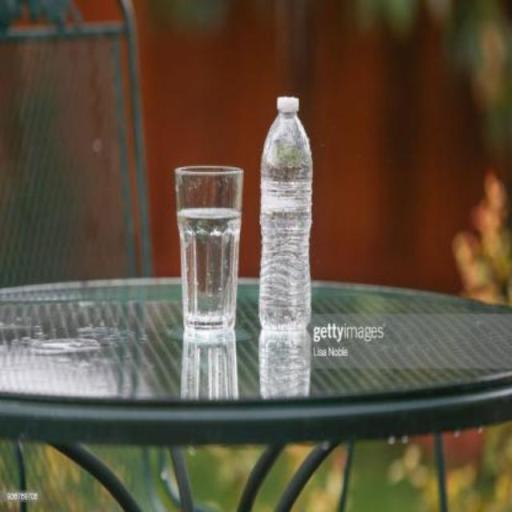Coca: (253, 86, 318, 343)
